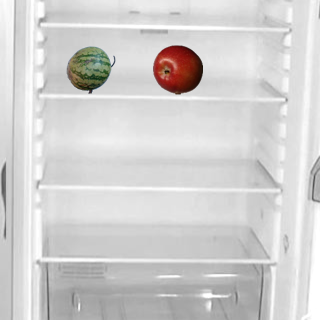Apple Braeburn: (152, 44, 202, 94)
Watermelon: (65, 44, 115, 94)
